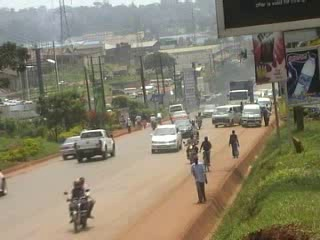Car: (148, 122, 184, 155), (58, 133, 83, 161), (172, 118, 195, 136), (170, 108, 190, 125), (0, 165, 9, 199), (197, 102, 215, 117)
Motorcycle: (60, 176, 97, 232), (181, 134, 201, 166), (187, 119, 201, 141), (146, 111, 159, 131), (193, 111, 204, 130)
